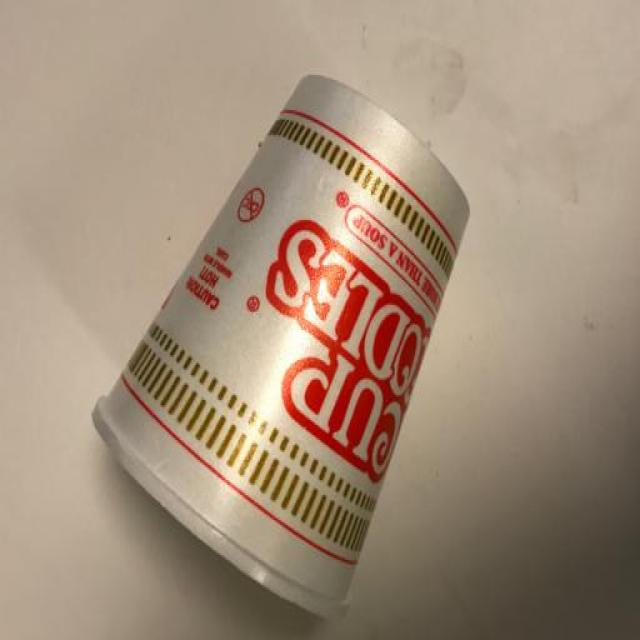plastic: (63, 61, 522, 640)
